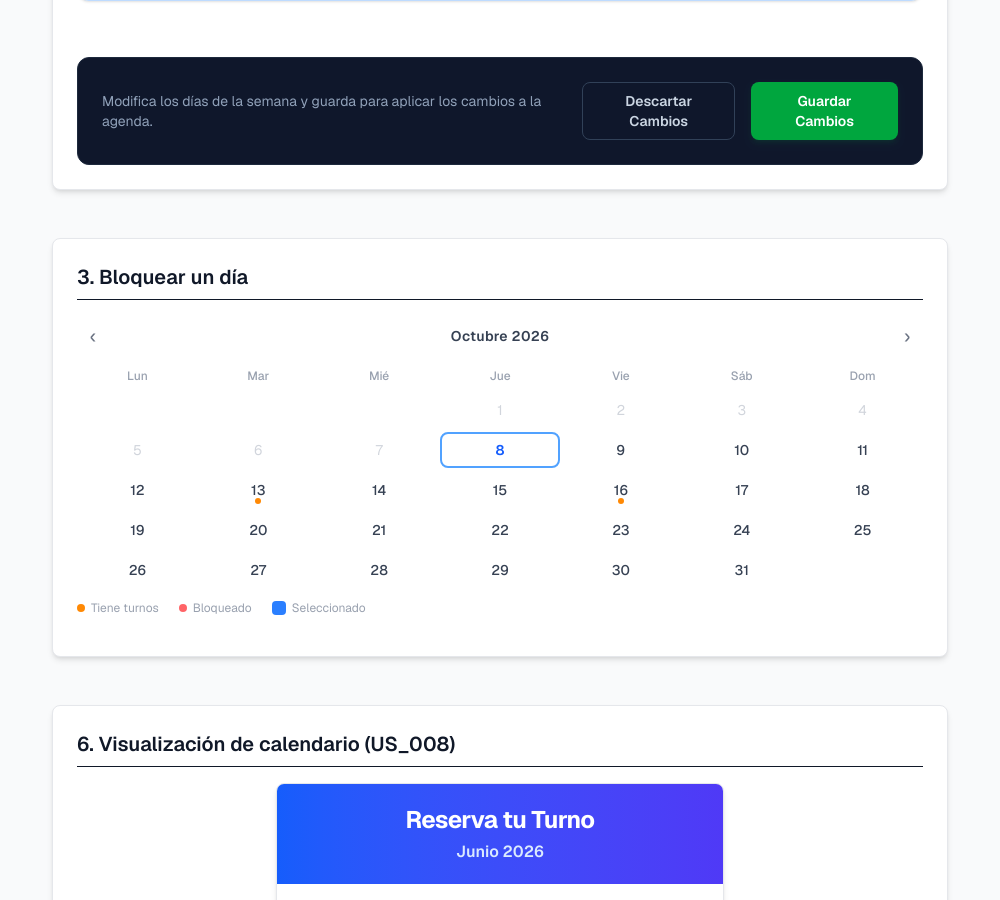
it: US_005: Seleccionar días para bloquearlos (Componente Gestión de Disponibilidad) › Debería descartar los cambios sin aplicar el bloqueo
This screenshot has width=1000, height=900.
(page scrolled)
Click the button with test id "dia-202".
click(621, 450)  # box [560,432,681,468]
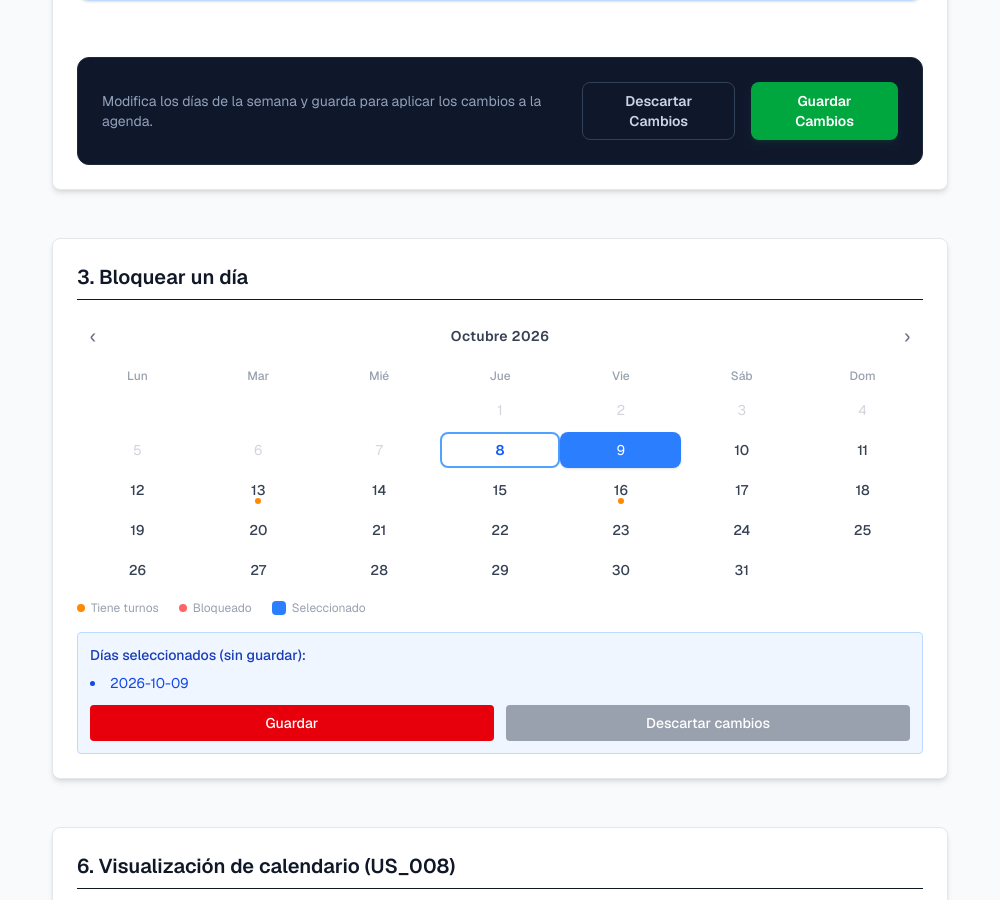
Expected: the button with test id "btn-descartar" is shown
// Click en descartar
Click the button with test id "btn-descartar".
click(708, 723)  # box [506,705,910,741]
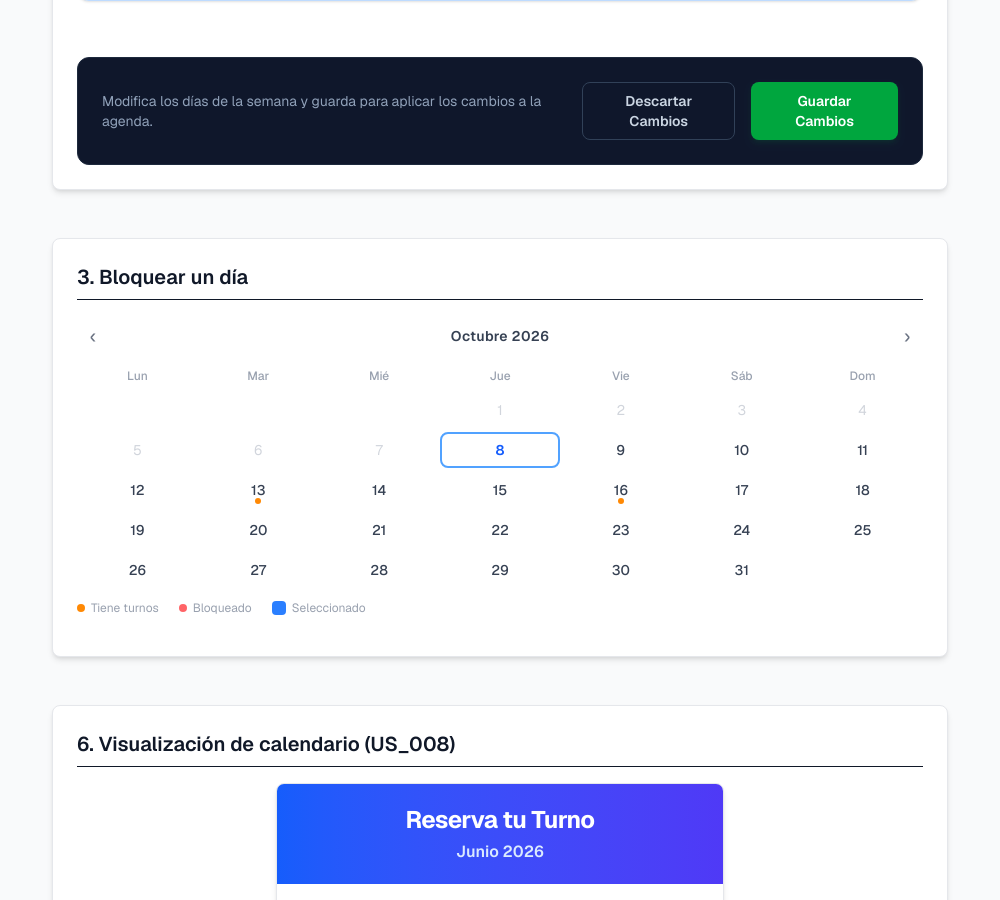
Expected: the button with test id "btn-guardar" is gone
